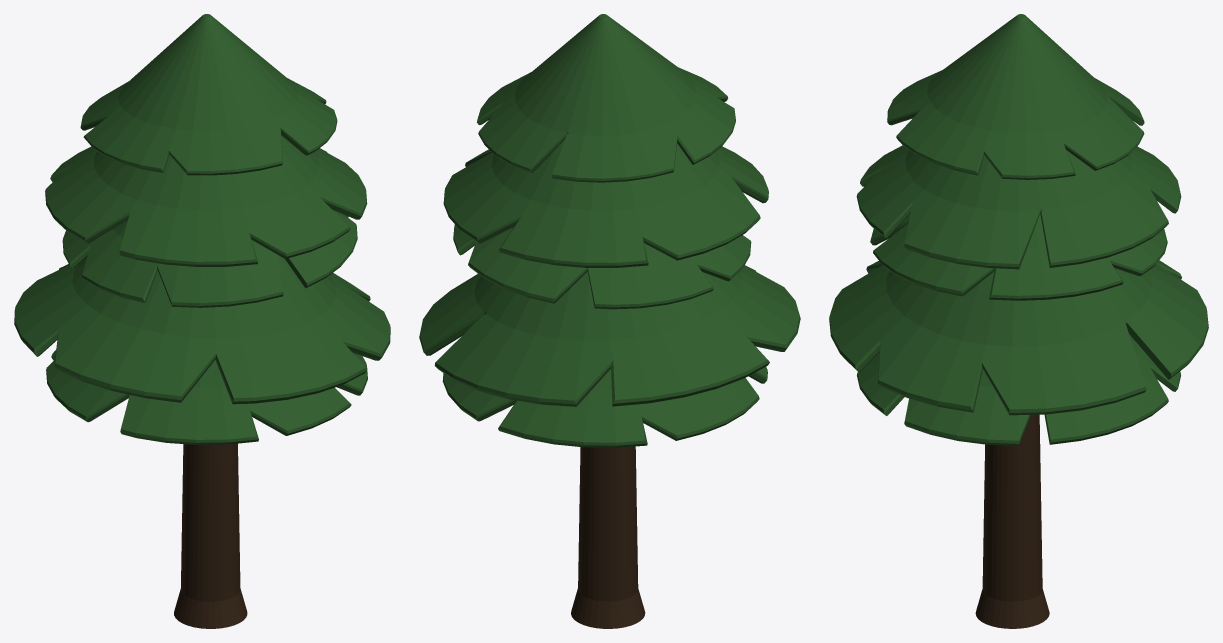
The model's file is Tree 1.fbx.
The picture shows the model from 3 angles, left to right: view 1: azimuth 30°, elevation 25°; view 2: azimuth 150°, elevation 25°; view 3: azimuth 270°, elevation 25°; orthographic projection.
Parts seen in each view (by area): view 1: Cylinder.001, Cylinder.003, Cylinder.004, Cylinder, Cylinder.002, Cylinder.005; view 2: Cylinder.001, Cylinder.004, Cylinder.003, Cylinder, Cylinder.002, Cylinder.005; view 3: Cylinder.001, Cylinder.003, Cylinder.004, Cylinder.005, Cylinder, Cylinder.002.
Boxes of the visible parts, left/top/right/bottom form: Cylinder.001: left=14, top=255, right=390, bottom=404; Cylinder.003: left=45, top=135, right=367, bottom=266; Cylinder.004: left=80, top=14, right=337, bottom=175; Cylinder: left=46, top=350, right=367, bottom=444; Cylinder.002: left=62, top=210, right=357, bottom=307; Cylinder.005: left=174, top=443, right=247, bottom=628; Cylinder.001: left=419, top=265, right=800, bottom=406; Cylinder.004: left=477, top=14, right=735, bottom=182; Cylinder.003: left=443, top=140, right=768, bottom=267; Cylinder: left=442, top=367, right=767, bottom=447; Cylinder.002: left=453, top=224, right=751, bottom=309; Cylinder.005: left=571, top=446, right=645, bottom=628; Cylinder.001: left=829, top=260, right=1208, bottom=415; Cylinder.003: left=856, top=145, right=1181, bottom=269; Cylinder.004: left=887, top=14, right=1144, bottom=179; Cylinder.005: left=975, top=414, right=1049, bottom=628; Cylinder: left=857, top=334, right=1180, bottom=445; Cylinder.002: left=870, top=213, right=1167, bottom=300.
Bounding box in the file's own units: 755 × 1314 × 756.
